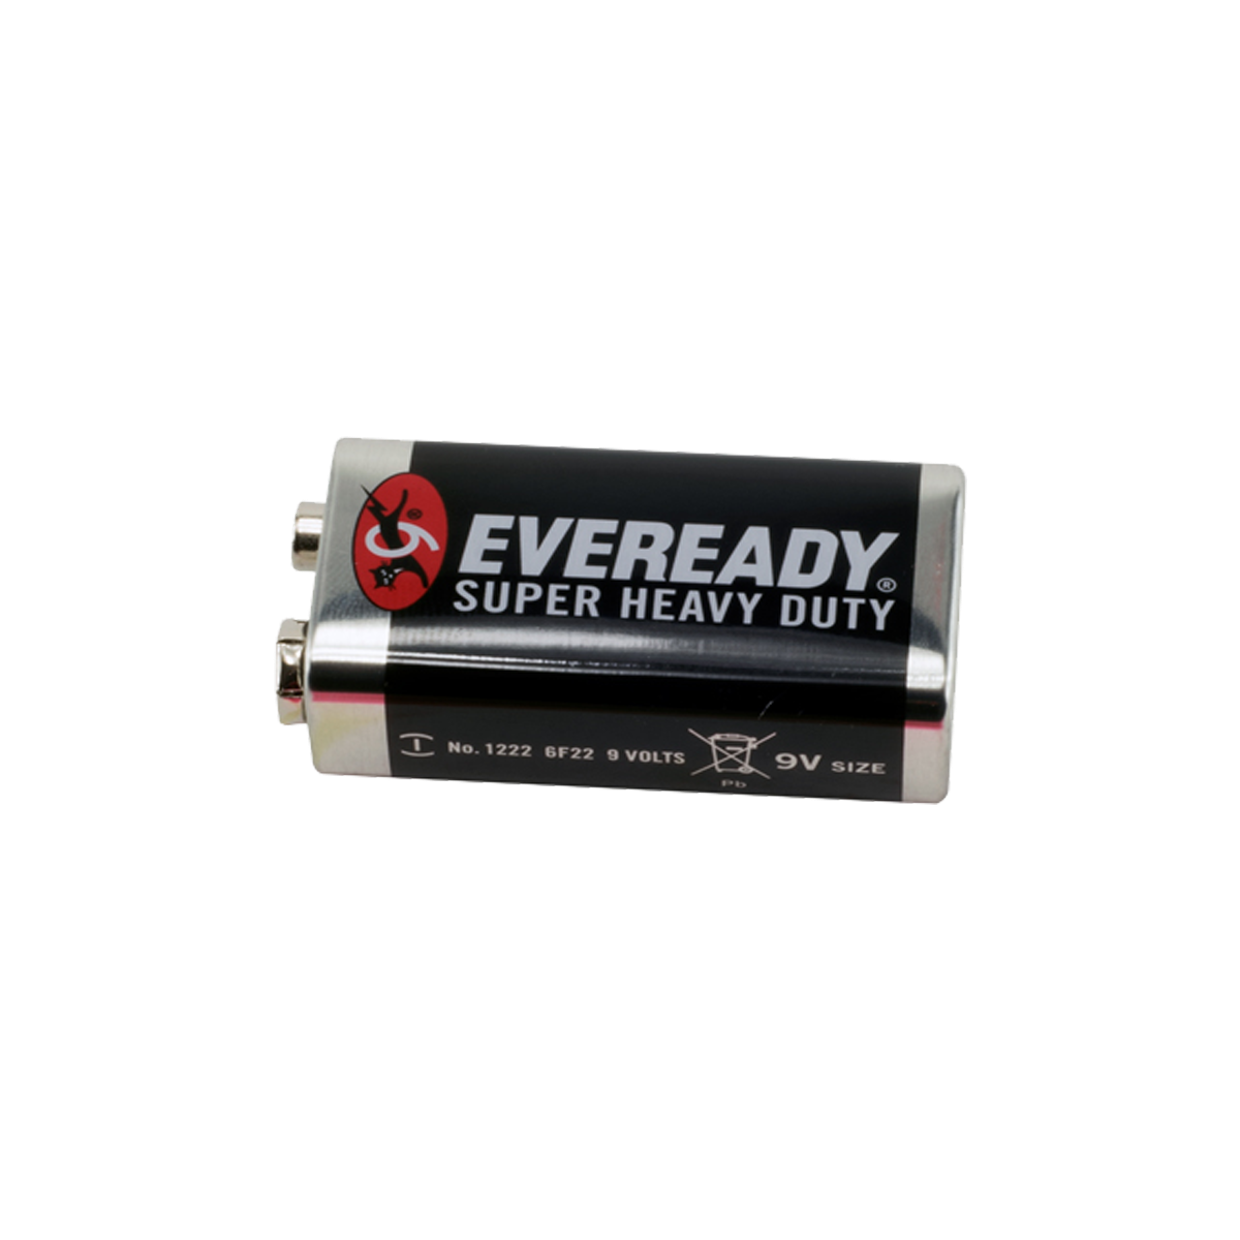9V: (273, 414, 990, 836)
